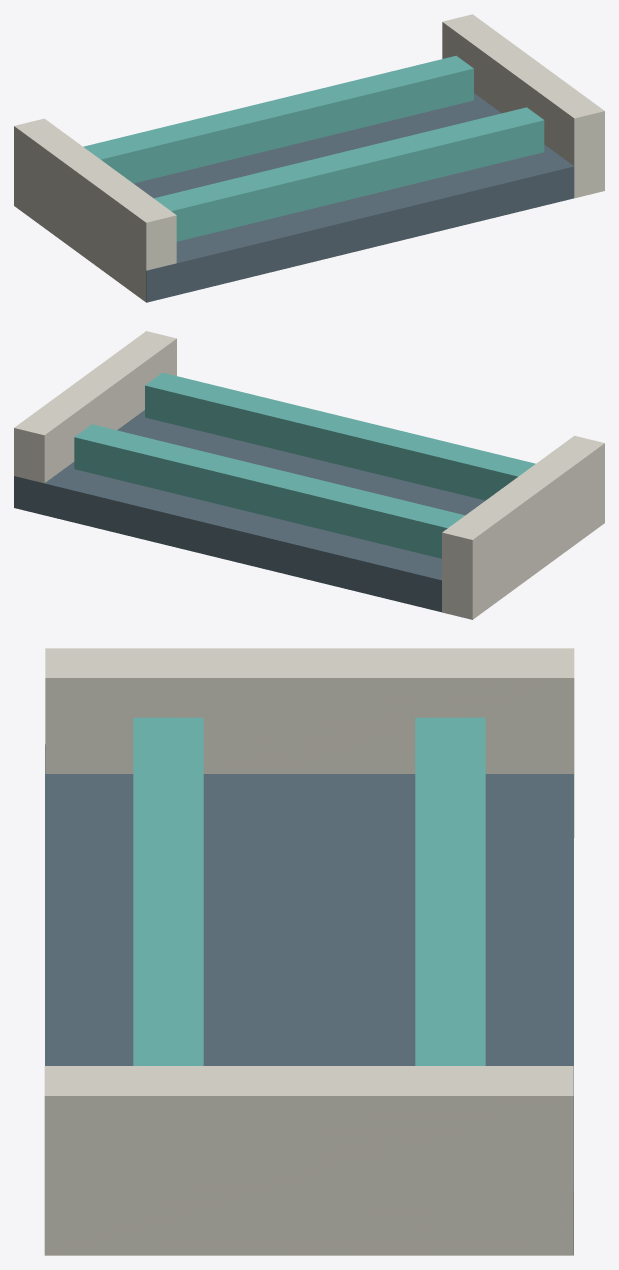
File: voxel-city-districts-utility-trench-8385ae2e__24851.glb
The picture shows the model from 3 angles, top to bottom: view 1: azimuth 30°, elevation 25°; view 2: azimuth 150°, elevation 25°; view 3: azimuth 270°, elevation 25°; orthographic projection. The views are drawn at different scales.
Visible parts, largest first — view 1: utility-trench-accent, utility-trench-dark, utility-trench-concrete; view 2: utility-trench-accent, utility-trench-dark, utility-trench-concrete; view 3: utility-trench-concrete, utility-trench-dark, utility-trench-accent.
Boxes of the visible parts, x1,y1,x2,y2 form: utility-trench-accent: (83, 55, 544, 241); utility-trench-dark: (134, 93, 574, 302); utility-trench-concrete: (14, 14, 604, 302); utility-trench-accent: (74, 372, 535, 558); utility-trench-dark: (14, 410, 484, 612); utility-trench-concrete: (14, 331, 604, 619); utility-trench-concrete: (44, 648, 574, 1255); utility-trench-dark: (45, 744, 573, 1254); utility-trench-accent: (133, 717, 485, 1065).
Size of the model in its own units: 3 by 0.4999 by 1.5.
